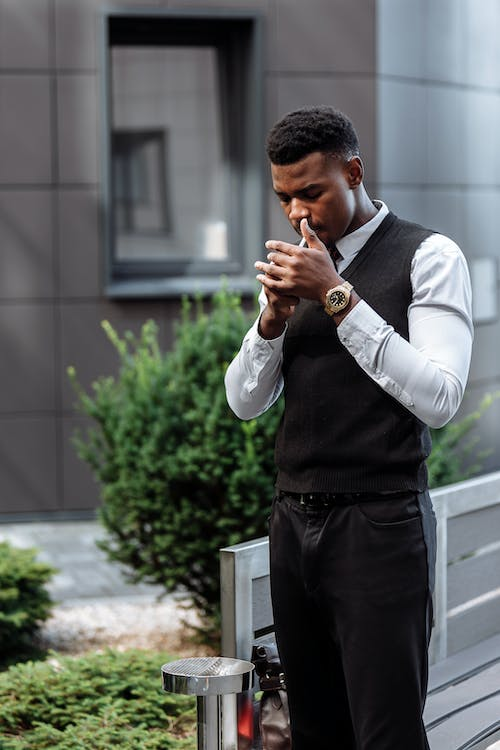cigarette: (297, 236, 306, 249)
